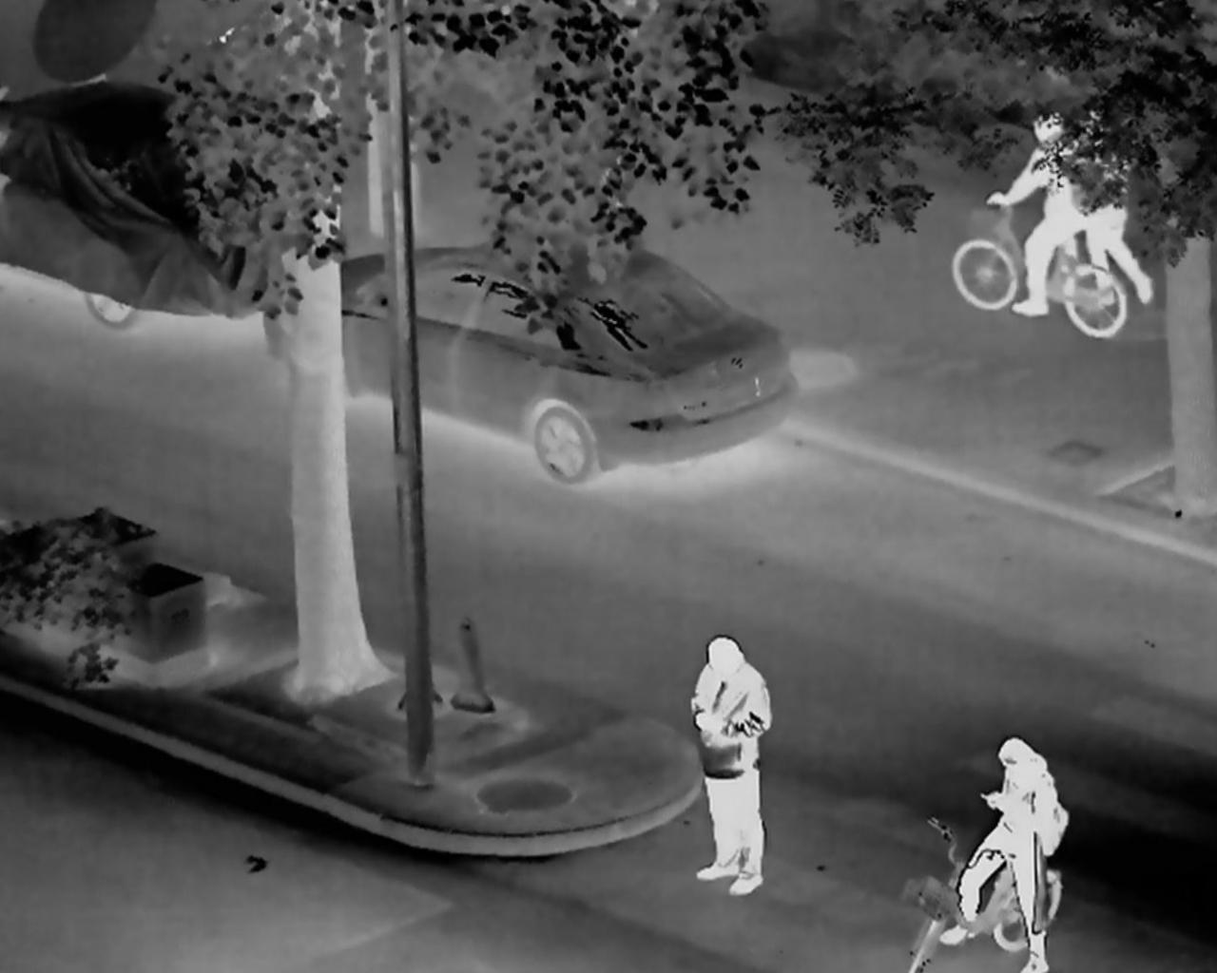person: (941, 735, 1061, 973), (985, 111, 1091, 317), (1057, 82, 1153, 307), (689, 637, 770, 898)
